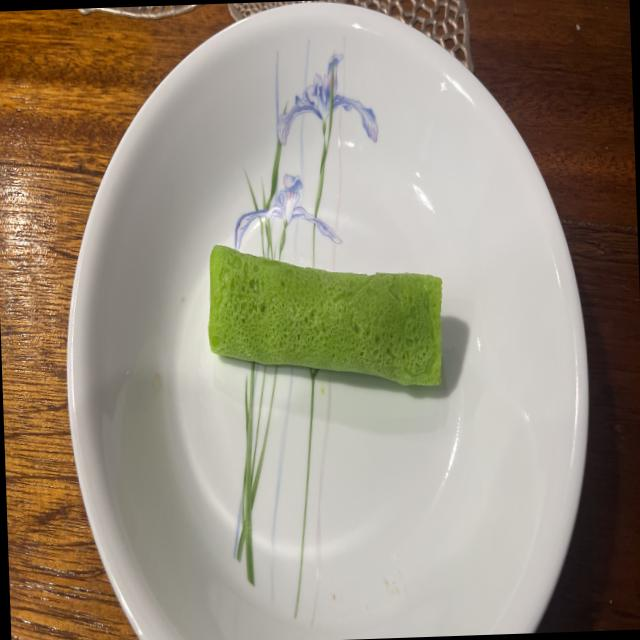Kuih-Ketayap: (208, 245, 442, 386), (208, 245, 442, 385), (208, 245, 442, 385)
